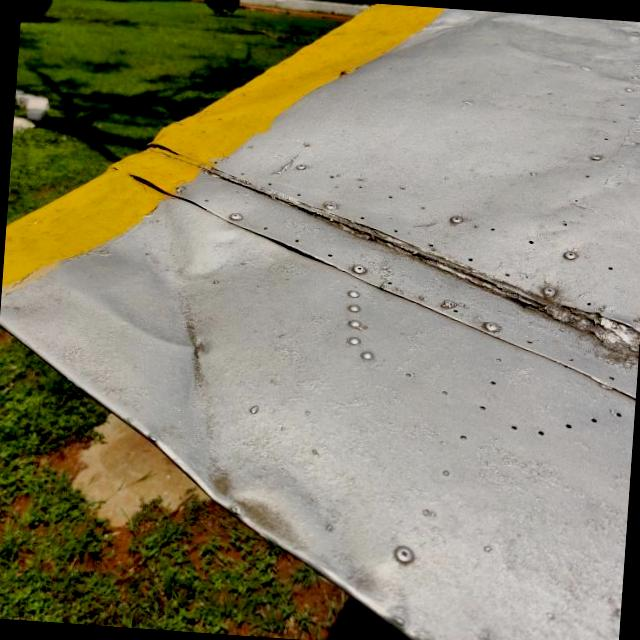dent: (166, 438, 430, 632), (65, 214, 237, 354)
